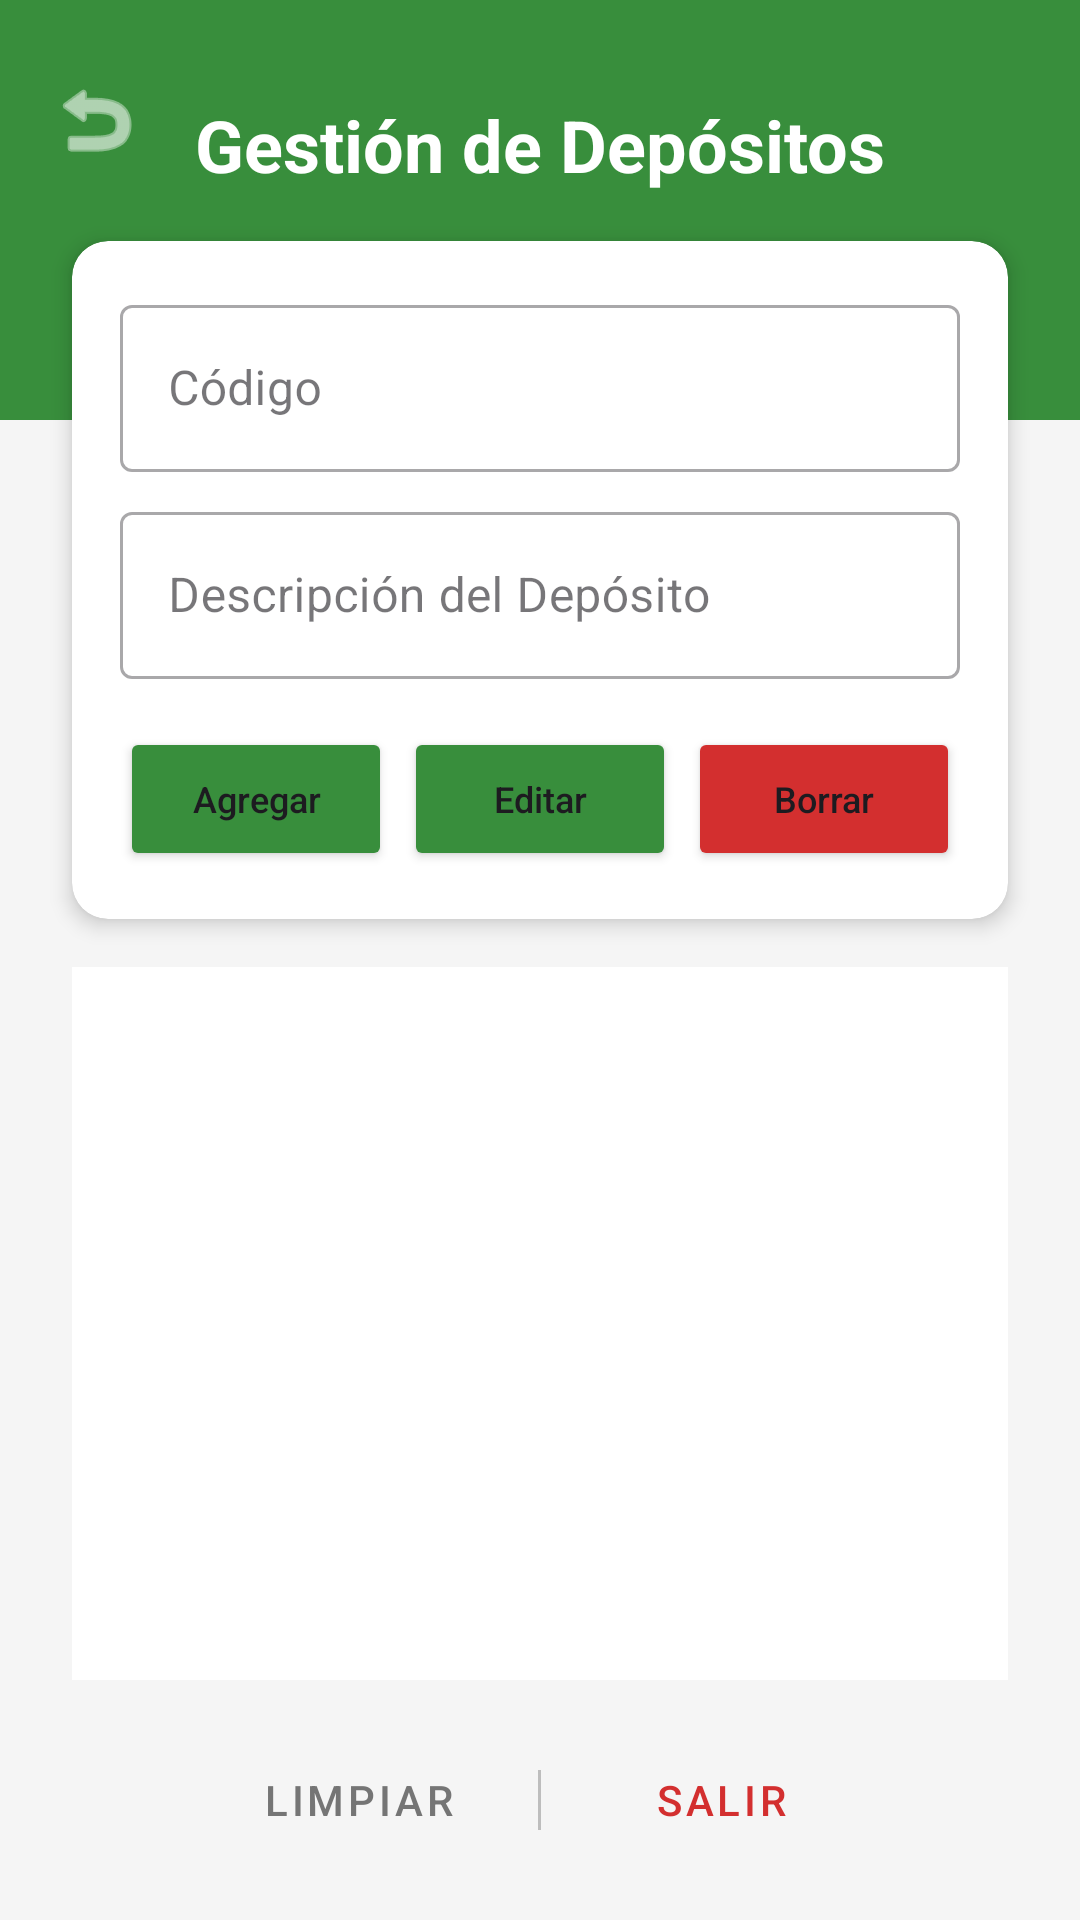

Locate icon controls on the screen. Image size 1080x1920, boxes as (x1, y1, x2, y2).
revert: (63, 89, 132, 152)
